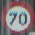Speed limit: (1, 1, 34, 32)
